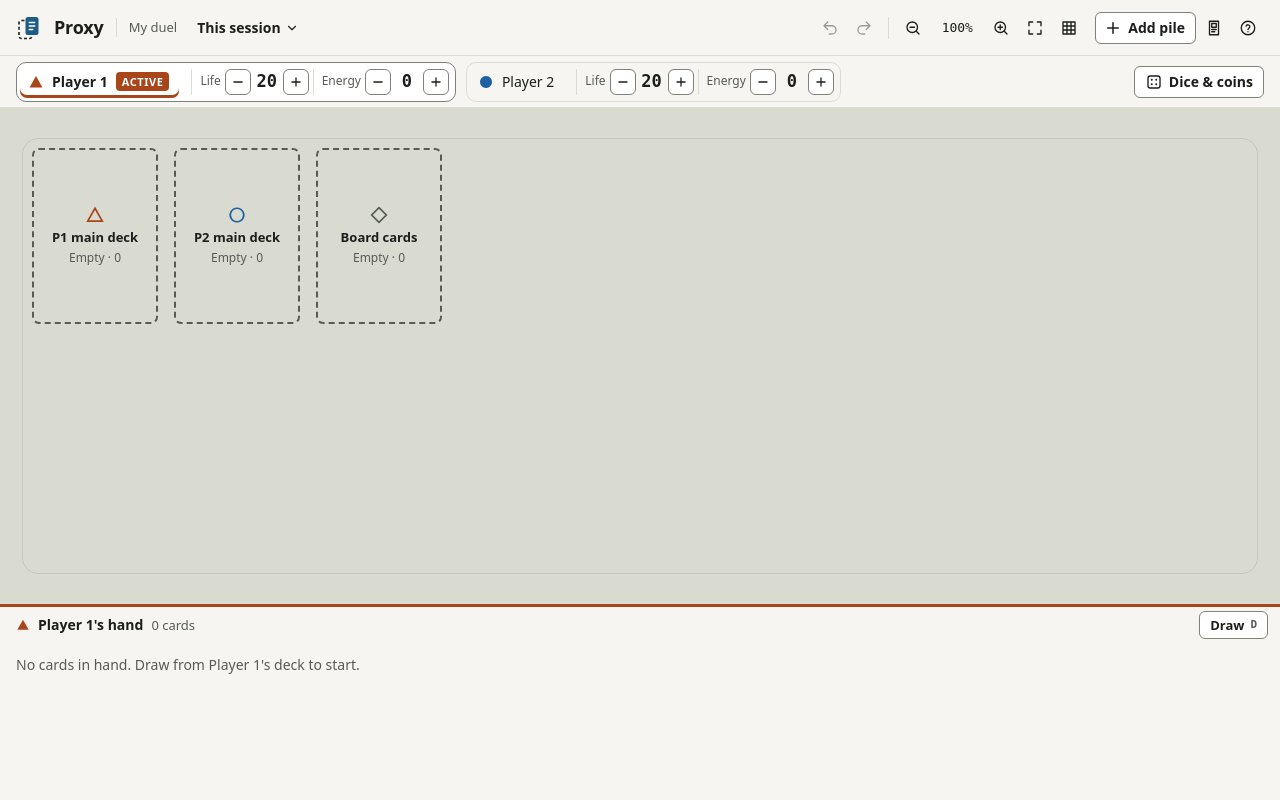
Scenario: SP-1 saved formats in the setup dialog › starts on the current format when it is a saved one
Click the button "This session" at point(248, 28), box x1=189 y1=12 x2=307 y2=44
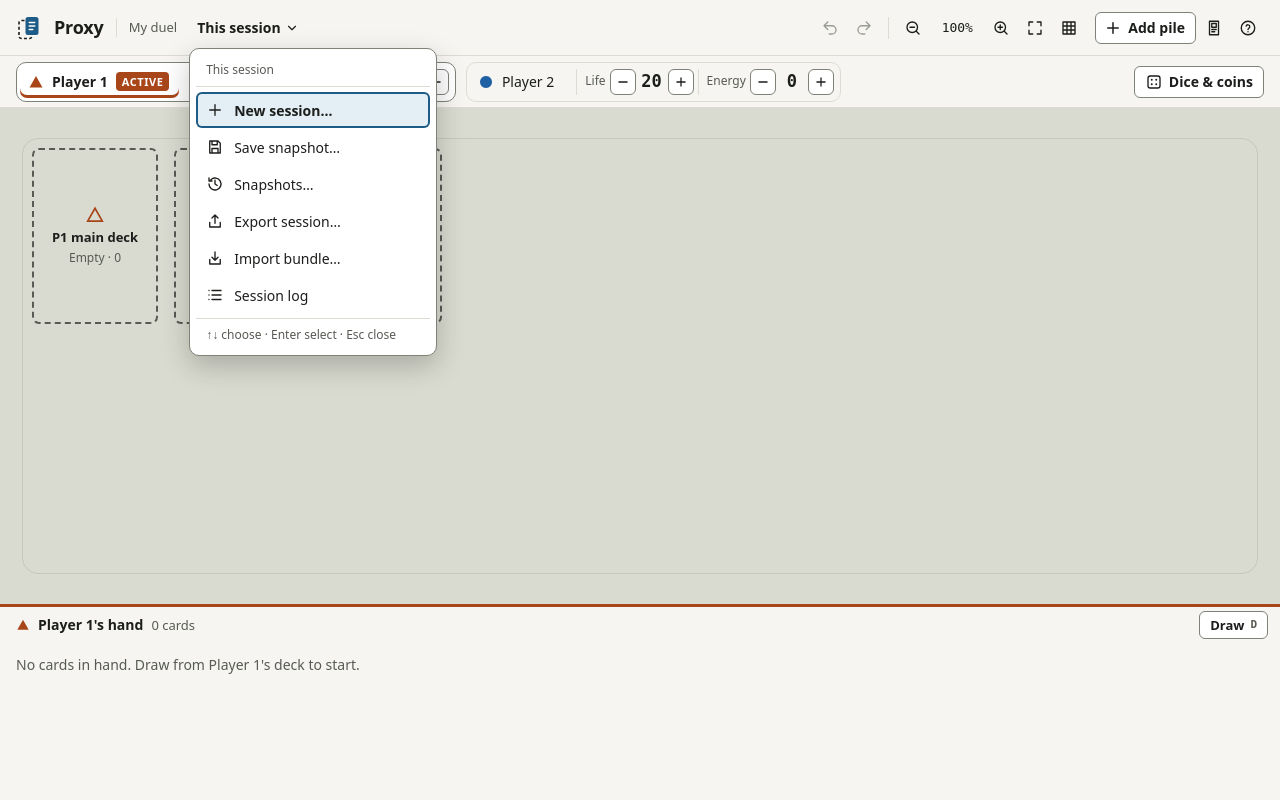
Click the menu item "New session…" at point(313, 110), box x1=196 y1=92 x2=430 y2=128
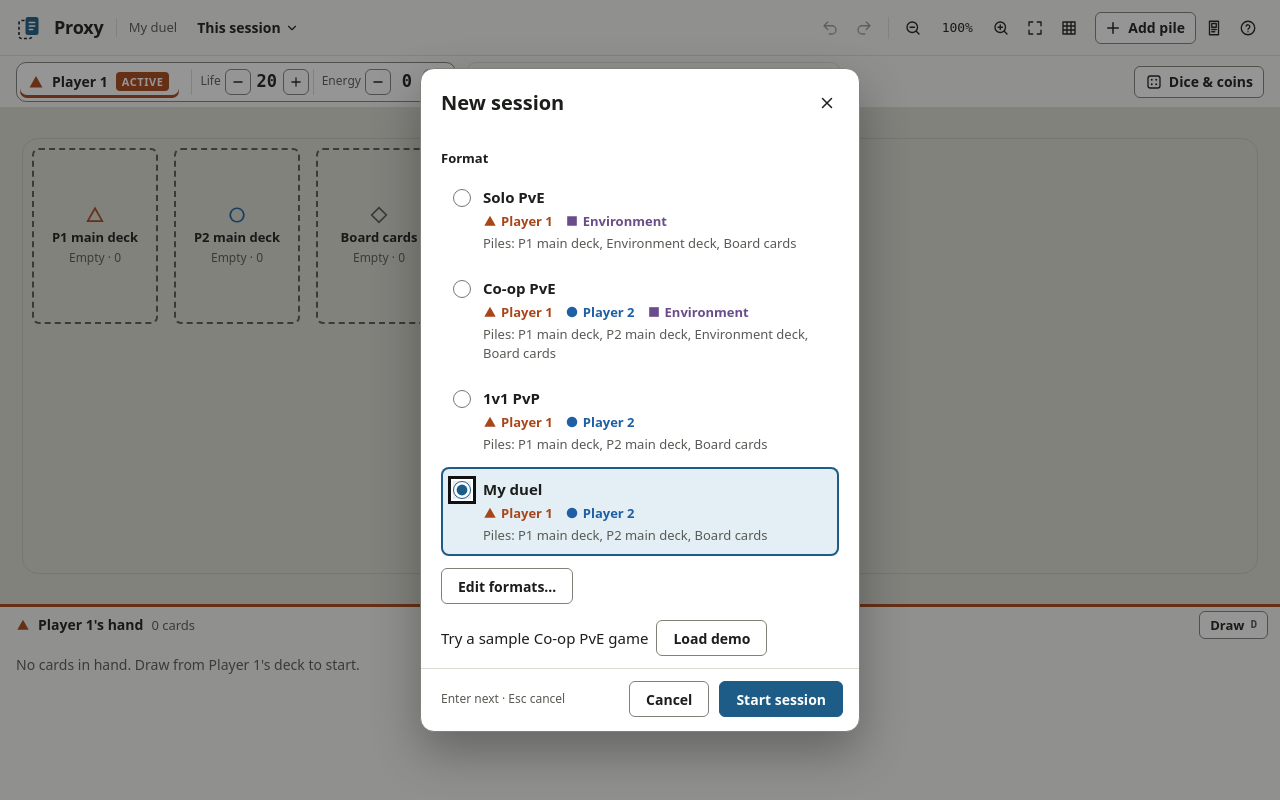
expect the radio button labelled "My duel" is checked: met, box x1=453 y1=481 x2=471 y2=499
